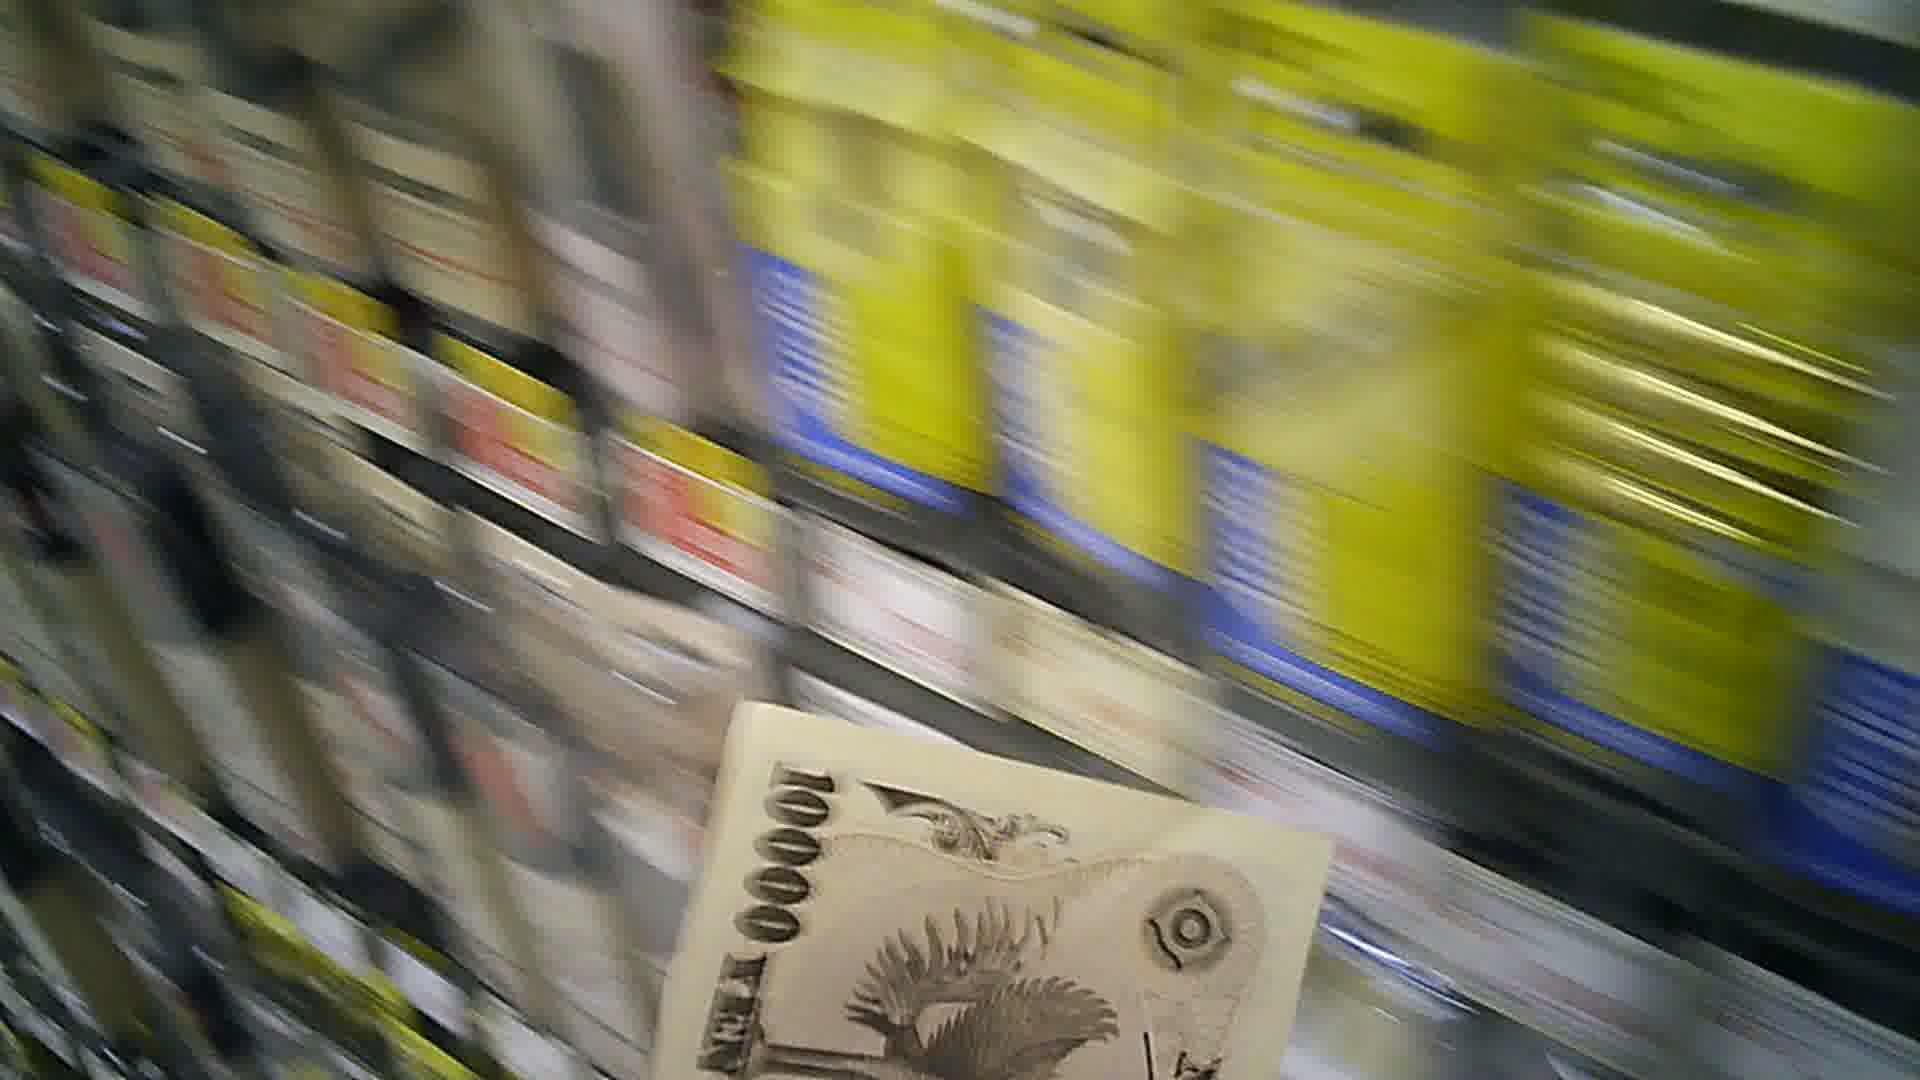10,000 Yen: (661, 688, 1313, 1060)
